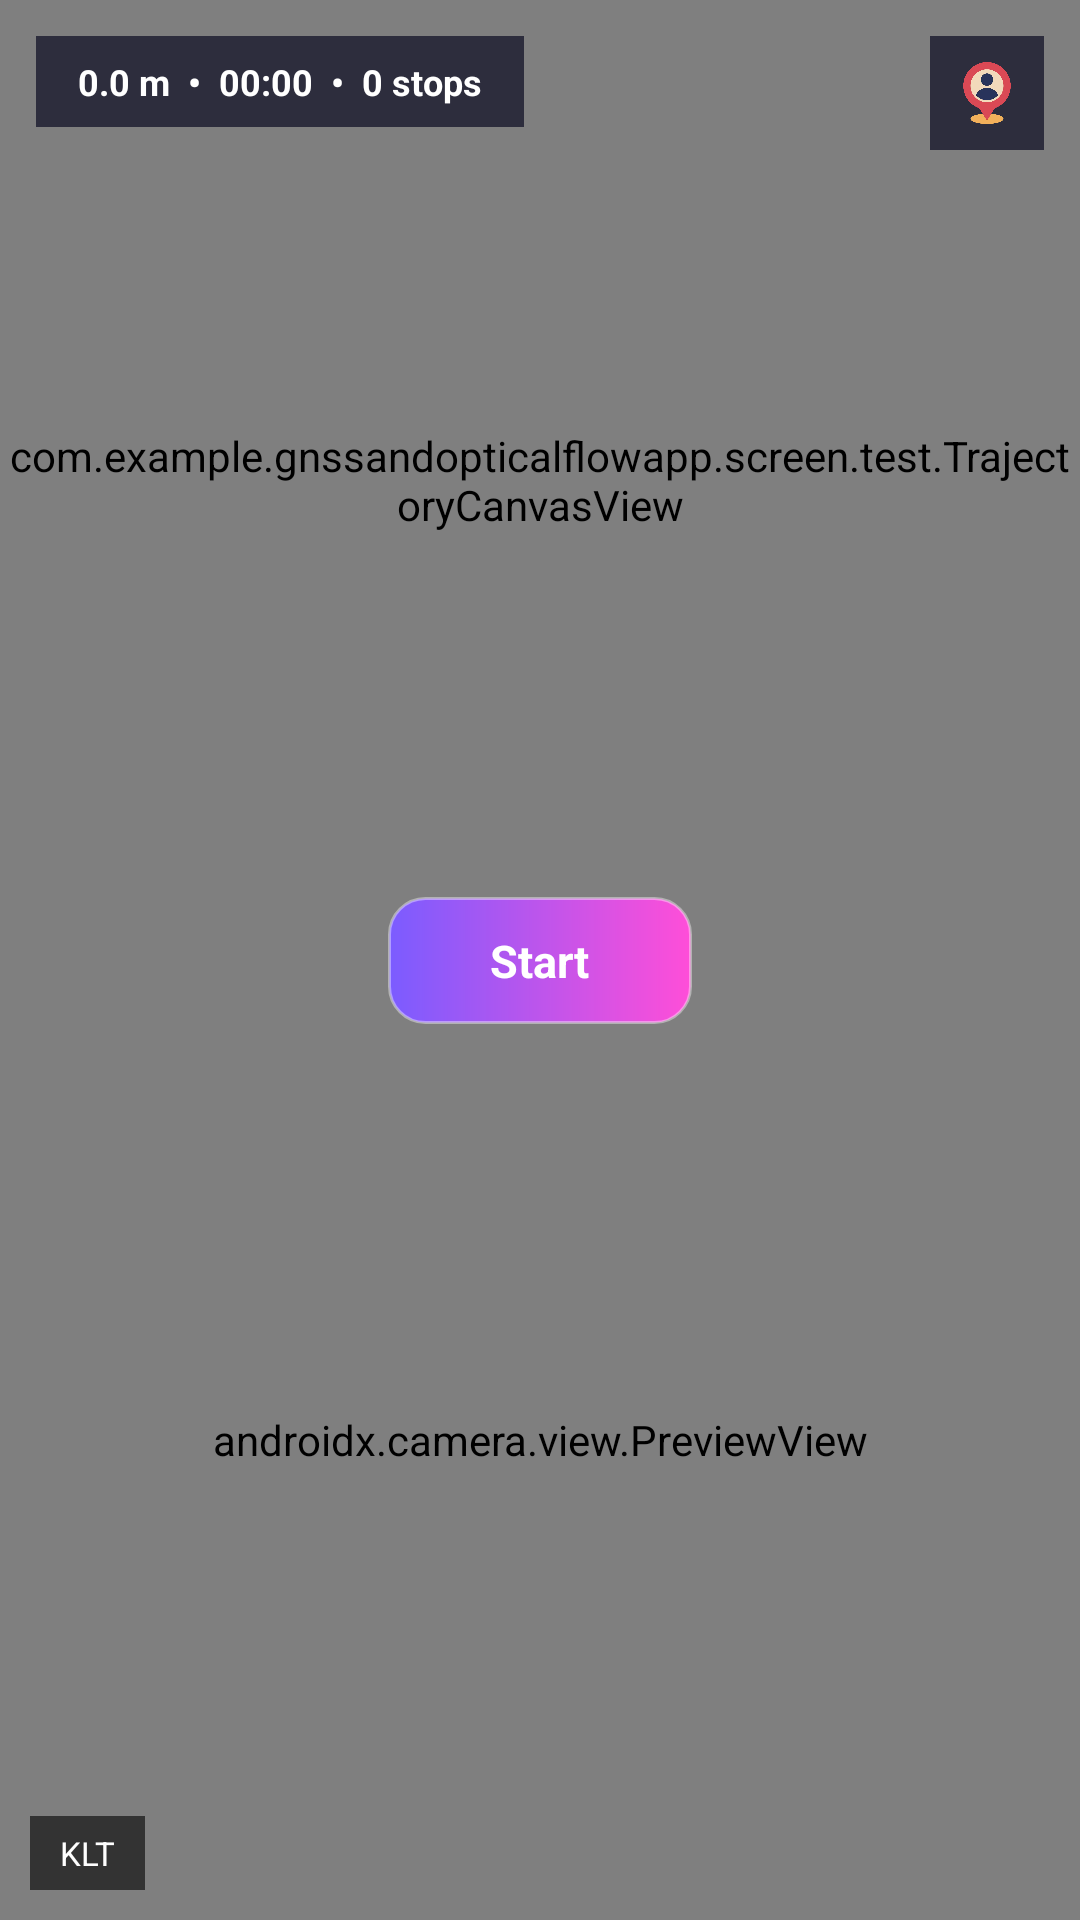

Screen size 1080px x 1920px. Icon name, then its box in pixels as (x1, y1, x2, y2):
Recenter canvas: (930, 36, 1044, 150)
